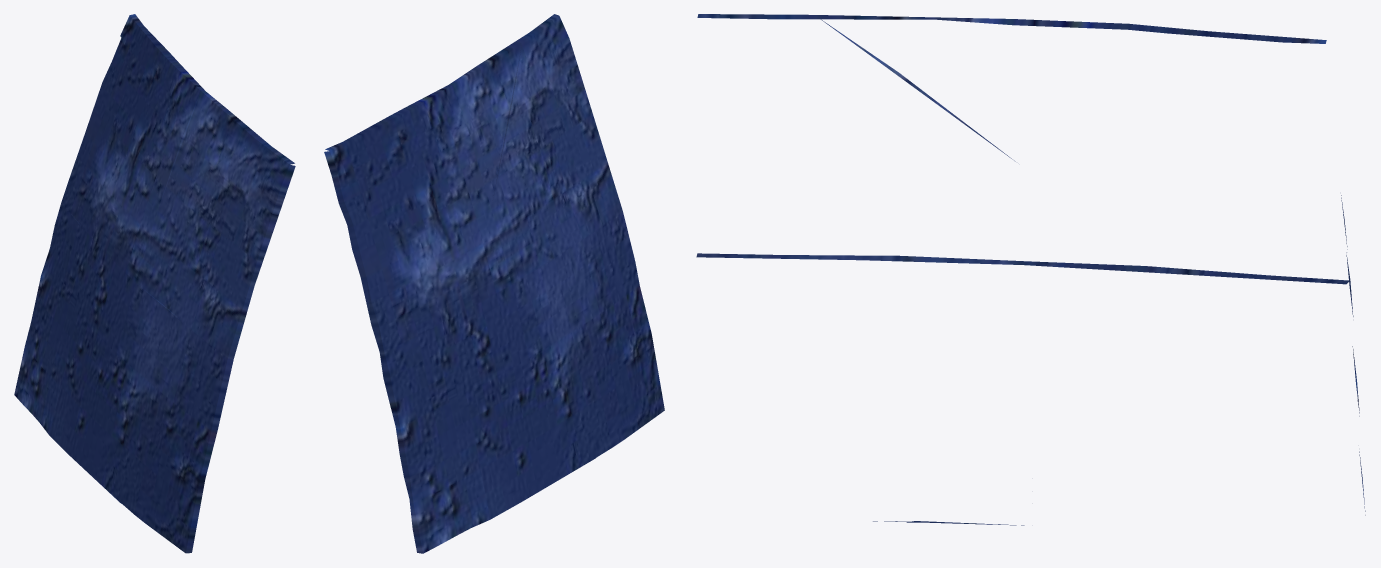
3 renders of one model, left to right at view 1: azimuth 30°, elevation 25°; view 2: azimuth 150°, elevation 25°; view 3: azimuth 270°, elevation 25°, orthographic. The views are drawn at different scales.
Size of the model in its own units: 490033 by 1208019 by 1235773.
Materials: 1 (1 with a texture image).
